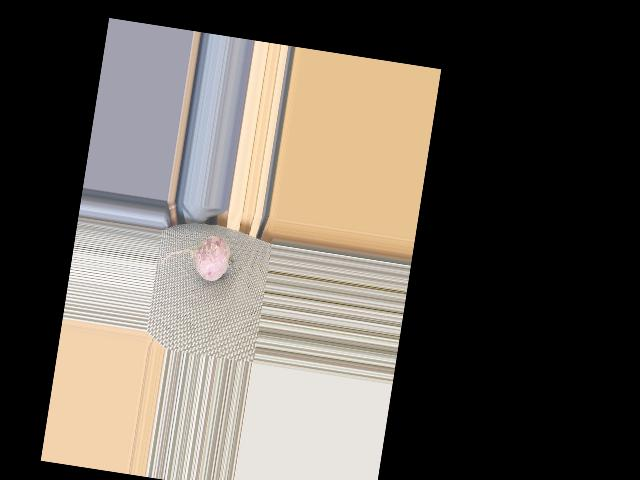beet: (161, 227, 238, 283)
